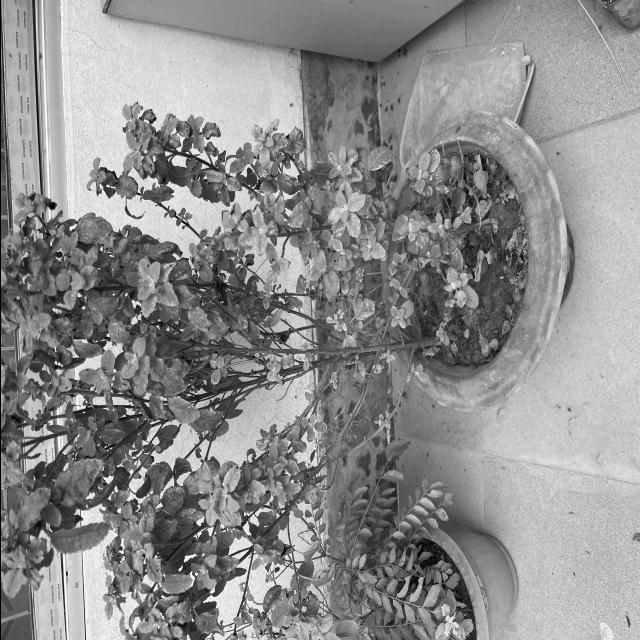Breeding Place: (374, 102, 584, 415), (378, 478, 530, 640)
